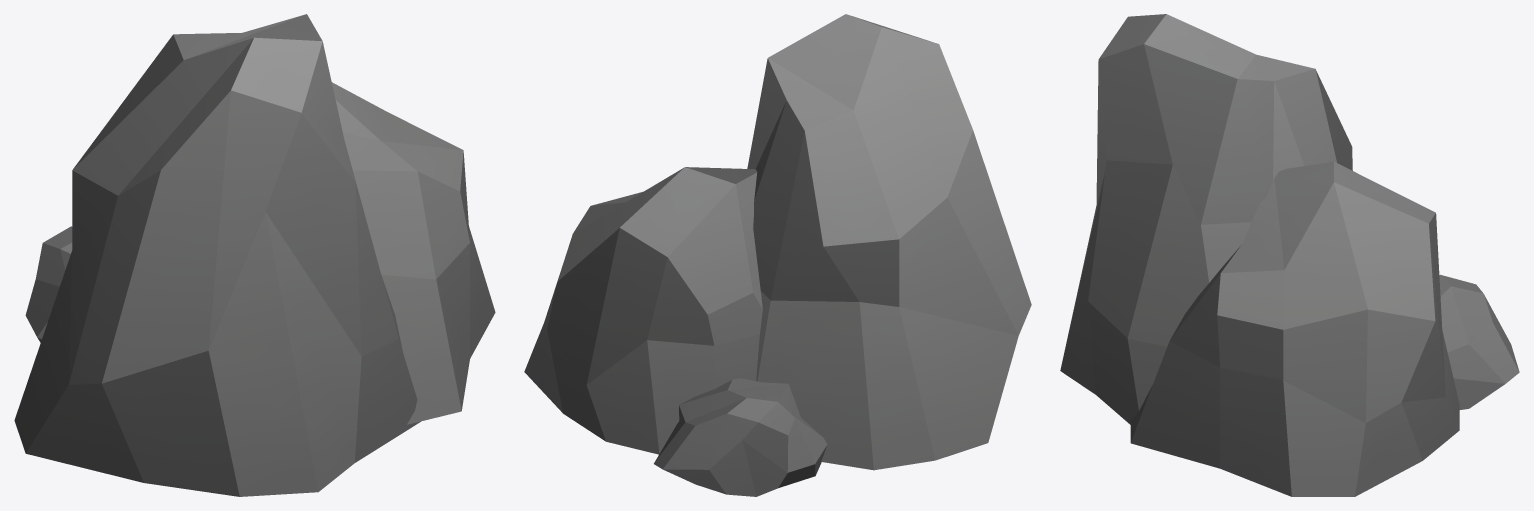
File: Rock008.fbx
The picture shows the model from 3 angles, left to right: view 1: azimuth 30°, elevation 25°; view 2: azimuth 150°, elevation 25°; view 3: azimuth 270°, elevation 25°; orthographic projection. The views are drawn at different scales.
Visible parts, largest first — view 1: Cube.035; view 2: Cube.035; view 3: Cube.035.
Part boxes in pixels (x1=…): Cube.035: x1=14, y1=14, x2=495, y2=496; Cube.035: x1=524, y1=14, x2=1031, y2=496; Cube.035: x1=1060, y1=14, x2=1519, y2=496.
Bounding box in the file's own units: 329 × 265 × 308.
